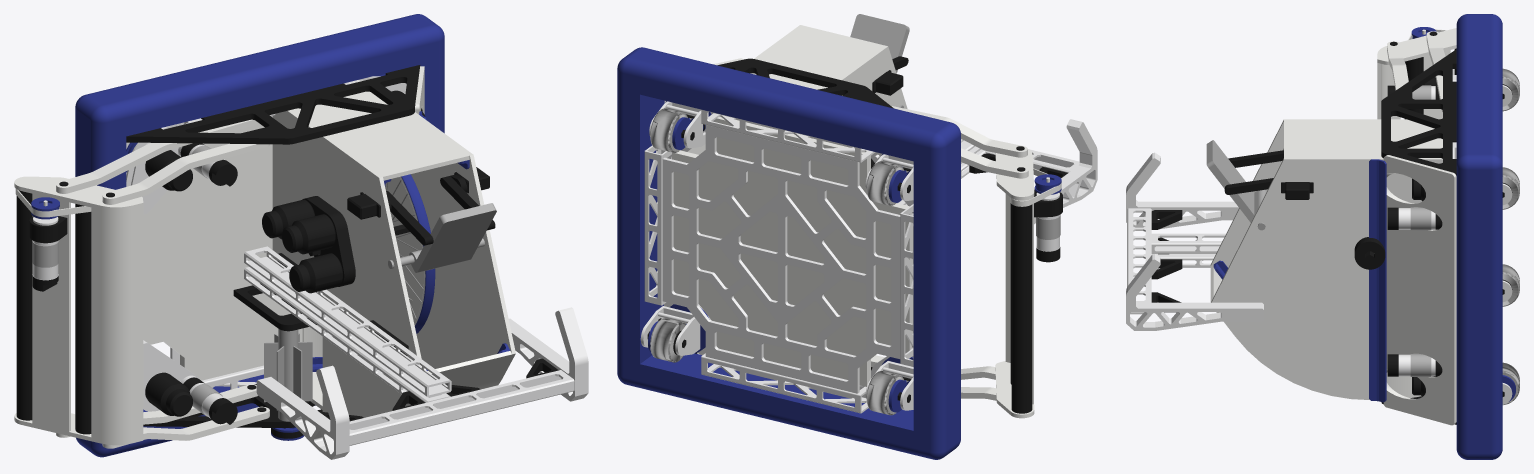
Rendered from final roboteers v4.fbx.
3 views of the same model, side by side, from view 1: azimuth 30°, elevation 25°; view 2: azimuth 150°, elevation 25°; view 3: azimuth 270°, elevation 25° (orthographic). The views are drawn at different scales.
Parts seen in each view (by area): view 1: Body5, Body18, Body32, Body1 (×10), Body20, Body21, Body44, Body22, Body19, Body11, Body4, Body10 (+21 smaller); view 2: Body5, Body18, Body33, Body25, Body2 (×4), Body19, Body17, Body14, Body44, Body15, Body10, Body16 (+13 smaller); view 3: Body20, Body5 (×2), Body55, Body44, Body19, Body45, Body9, Body1 (×3), Body10, Body32, Body52, Body4 (+11 smaller).
Boxes of the visible parts, bbox=[...] form: Body5: bbox=[75, 14, 444, 457]; Body18: bbox=[143, 116, 302, 380]; Body32: bbox=[272, 110, 421, 417]; Body1 (×10): bbox=[32, 145, 380, 424]; Body20: bbox=[302, 112, 515, 385]; Body21: bbox=[91, 201, 143, 445]; Body44: bbox=[126, 65, 420, 144]; Body22: bbox=[32, 188, 70, 435]; Body19: bbox=[291, 91, 469, 180]; Body11: bbox=[244, 246, 451, 397]; Body4: bbox=[349, 370, 574, 445]; Body10: bbox=[256, 365, 349, 459]; Body5: bbox=[617, 47, 960, 459]; Body18: bbox=[672, 117, 912, 386]; Body33: bbox=[662, 125, 900, 393]; Body25: bbox=[1011, 204, 1032, 413]; Body2 (×4): bbox=[650, 108, 904, 415]; Body19: bbox=[750, 26, 884, 89]; Body17: bbox=[701, 353, 868, 413]; Body14: bbox=[644, 145, 671, 305]; Body44: bbox=[717, 58, 893, 108]; Body15: bbox=[701, 109, 875, 162]; Body10: bbox=[1034, 119, 1097, 224]; Body16: bbox=[900, 204, 913, 366]; Body20: bbox=[1211, 157, 1442, 399]; Body5 (×2): bbox=[1151, 14, 1502, 459]; Body55: bbox=[1383, 155, 1456, 425]; Body44: bbox=[1381, 49, 1456, 175]; Body19: bbox=[1284, 121, 1442, 157]; Body45: bbox=[1369, 159, 1386, 402]; Body9: bbox=[1126, 254, 1263, 330]; Body1 (×3): bbox=[1281, 182, 1433, 376]; Body10: bbox=[1126, 152, 1238, 228]; Body32: bbox=[1210, 119, 1410, 267]; Body52: bbox=[1206, 140, 1266, 230]; Body4: bbox=[1127, 208, 1151, 314].
Bounding box in the file's own units: 28.38 × 21.8 × 25.57.
